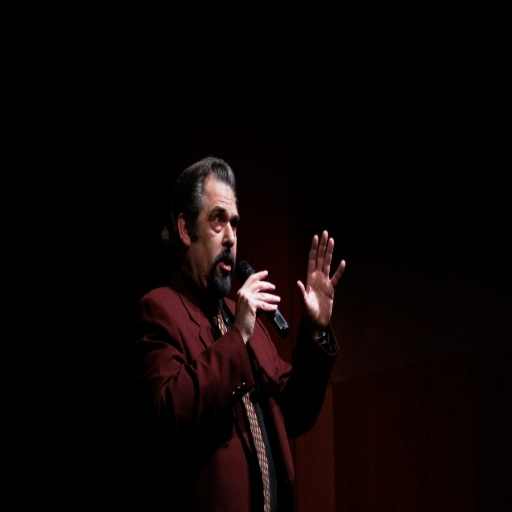hand: (292, 232, 348, 343), (235, 269, 281, 340)
